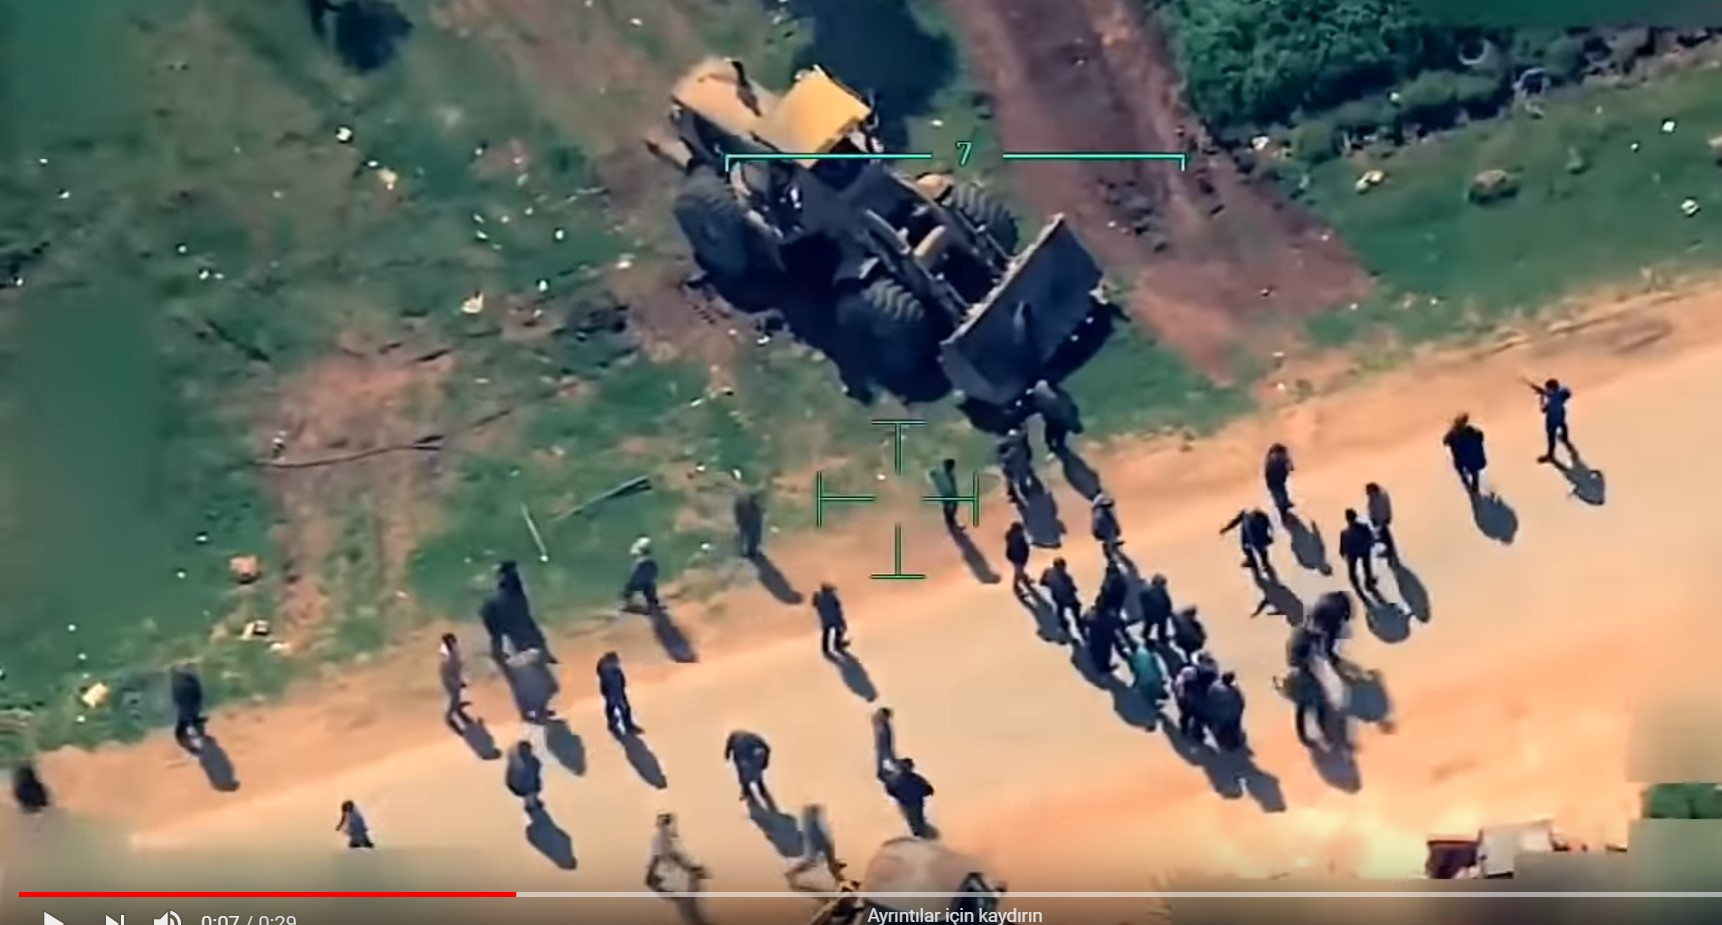araba: (639, 52, 1134, 413)
insan: (483, 548, 562, 662), (779, 798, 853, 890), (633, 804, 711, 884), (500, 729, 556, 826), (170, 650, 223, 750), (1020, 368, 1075, 460), (594, 640, 649, 733), (1261, 430, 1310, 528), (1221, 499, 1275, 587), (1443, 410, 1492, 506), (1526, 371, 1576, 463), (889, 748, 941, 835), (1333, 504, 1381, 587), (1210, 657, 1245, 769), (437, 620, 474, 726), (719, 723, 771, 795), (331, 803, 391, 861), (814, 576, 855, 658), (1042, 548, 1083, 627), (868, 703, 907, 784), (733, 477, 769, 565), (1363, 471, 1403, 548), (625, 540, 665, 617), (1004, 510, 1039, 594), (931, 451, 966, 529)
